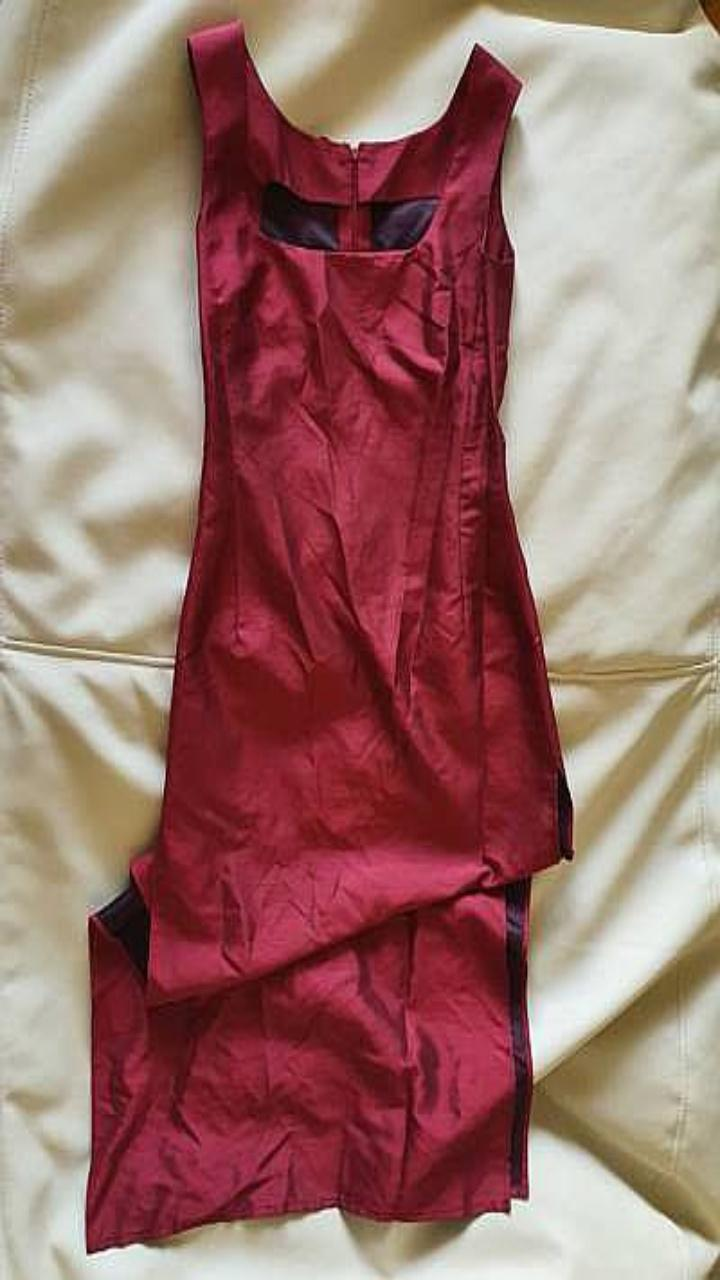Dresses: (86, 19, 572, 1251)
